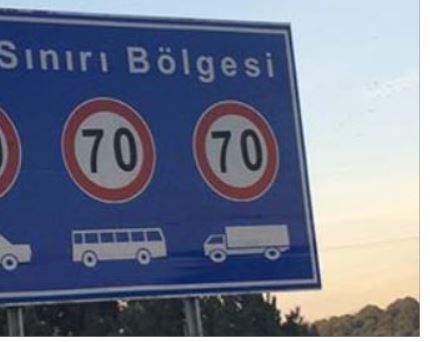70 Km Hiz Siniri: (59, 91, 158, 200), (190, 92, 287, 199)
